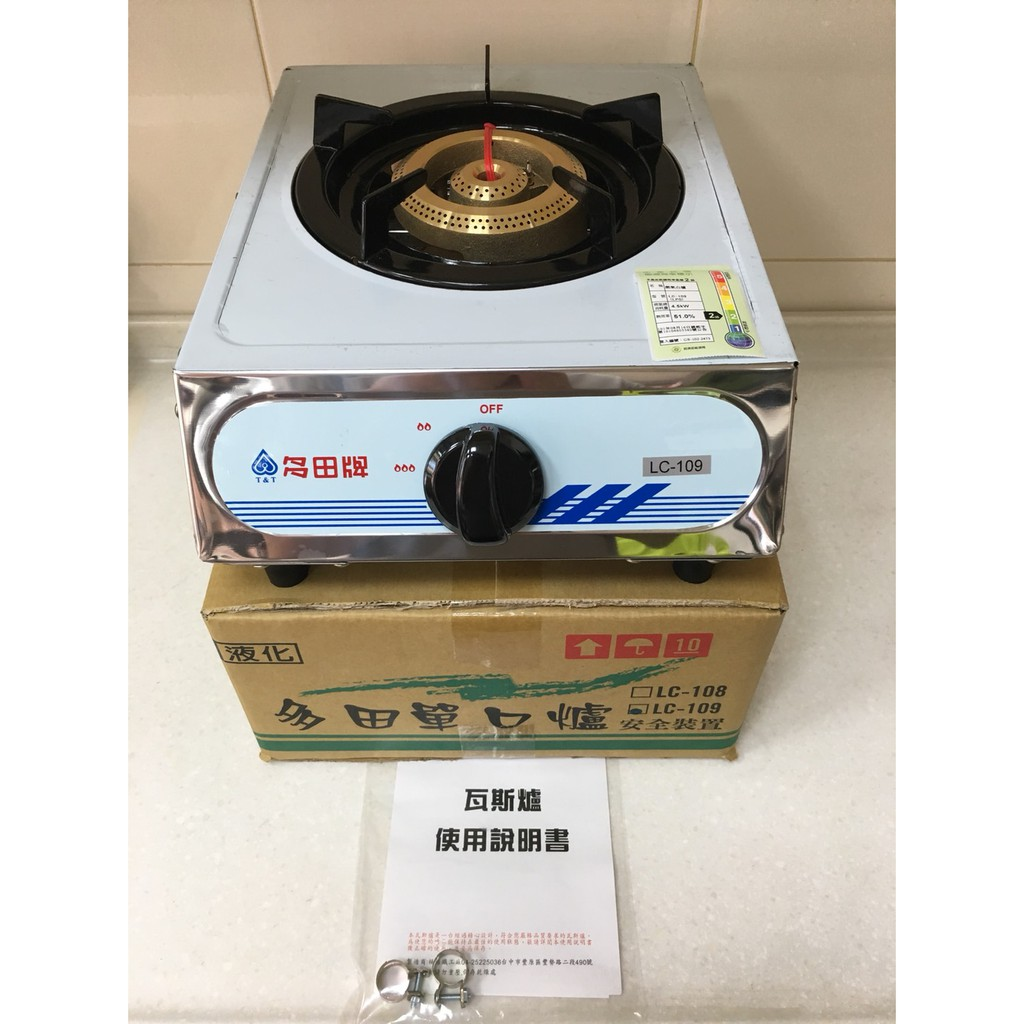gasoven: (165, 38, 804, 597)
